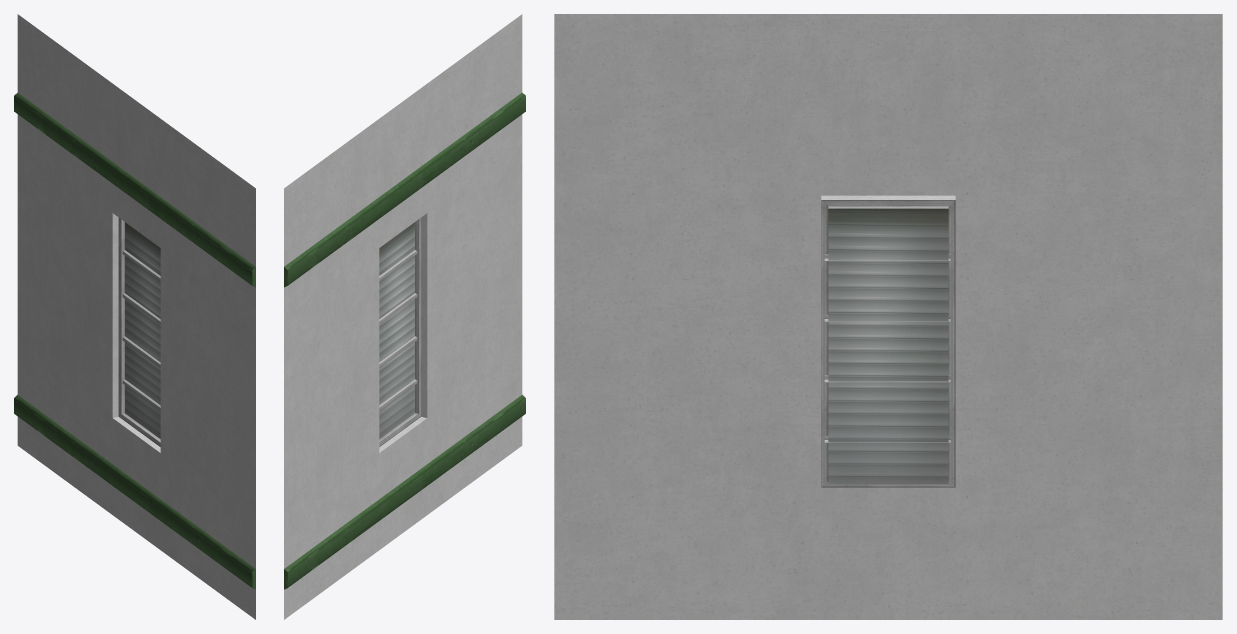
The model's file is MB_Wall_Window_C_03.fbx.
3 views of the same model, side by side, from view 1: azimuth 30°, elevation 25°; view 2: azimuth 150°, elevation 25°; view 3: azimuth 270°, elevation 25° (orthographic). The views are drawn at different scales.
Parts seen in each view (by area): view 1: MB_Wall_Window_C_03; view 2: MB_Wall_Window_C_03; view 3: MB_Wall_Window_C_03.
Part boxes in pixels (x1,y1,x2,y2): MB_Wall_Window_C_03: (14, 14, 255, 619); MB_Wall_Window_C_03: (284, 14, 525, 619); MB_Wall_Window_C_03: (554, 14, 1222, 619).
Bounding box in the file's own units: 13.02 × 400 × 400.
